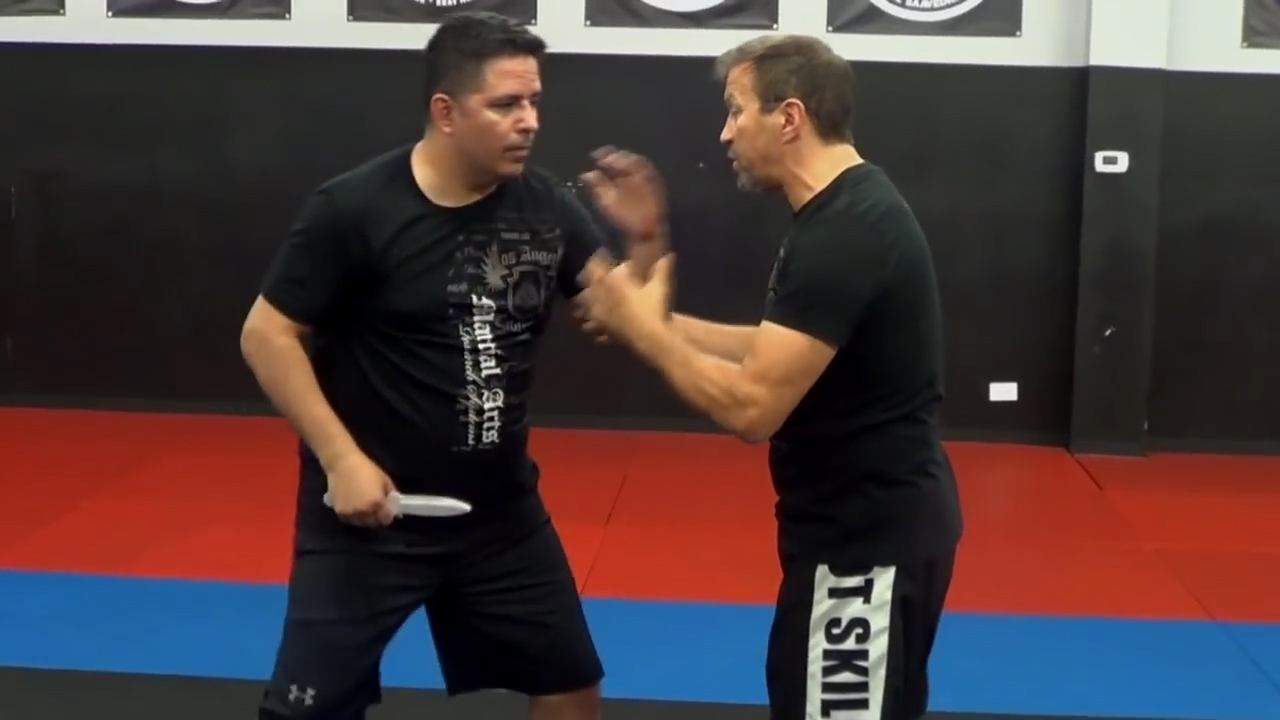knife: (319, 485, 481, 529)
